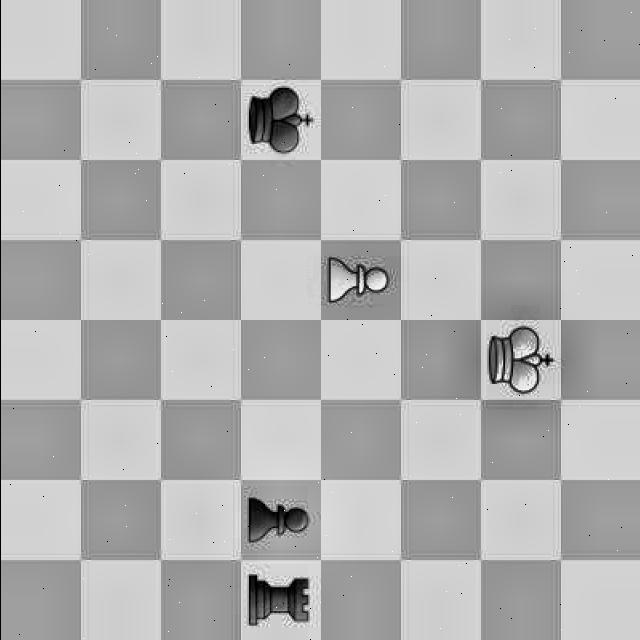black king: (229, 85, 307, 160)
black pawn: (241, 479, 317, 562)
black rook: (240, 566, 318, 632)
white king: (478, 320, 560, 394)
white pawn: (316, 235, 396, 323)
